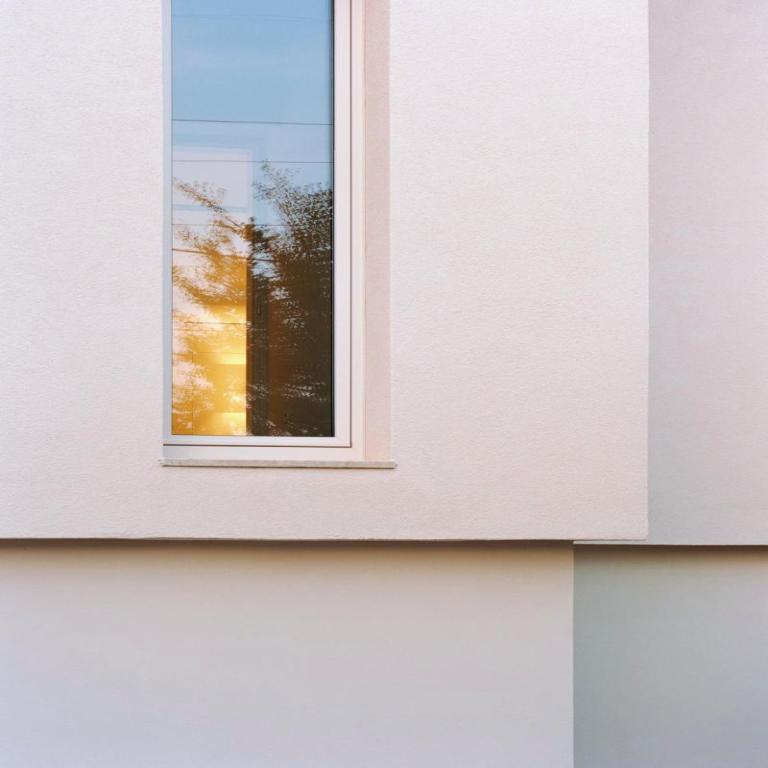white-walls: (22, 15, 721, 755)
